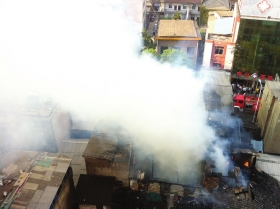smoke: (7, 6, 214, 174)
